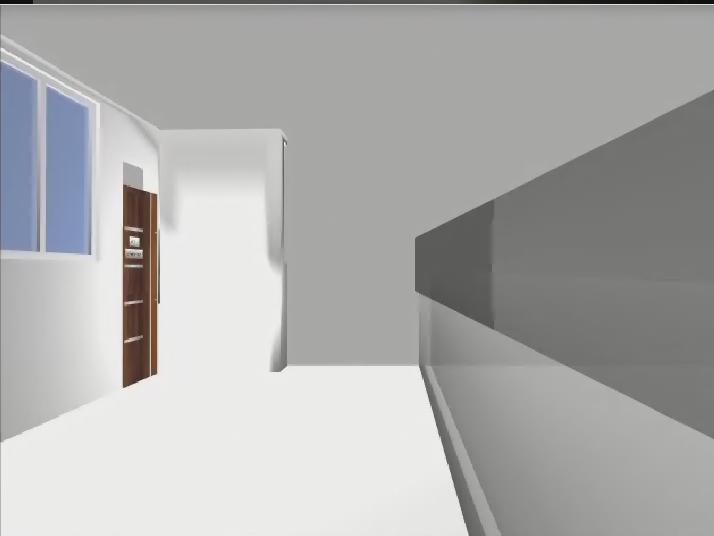door: (124, 185, 160, 389)
